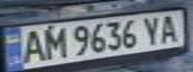3: (106, 19, 127, 52)
6: (87, 20, 109, 54), (121, 16, 142, 48)
9: (69, 22, 90, 56)
A: (15, 27, 48, 64), (154, 12, 184, 44)
M: (39, 25, 69, 60)
Y: (139, 13, 166, 46)
